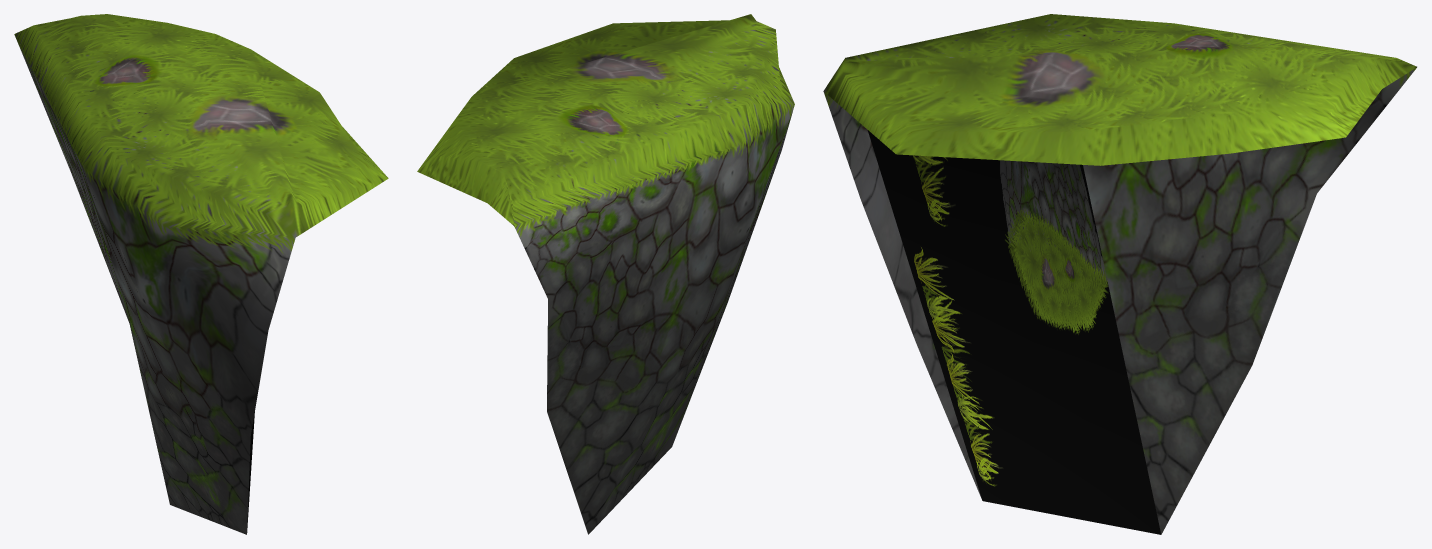
Rendered from platform klein.fbx.
3 views of the same model, side by side, from view 1: azimuth 30°, elevation 25°; view 2: azimuth 150°, elevation 25°; view 3: azimuth 270°, elevation 25° (orthographic). The views are drawn at different scales.
Visible parts, largest first — view 1: Plane_3; view 2: Plane_3; view 3: Plane_3.
Boxes of the visible parts, left/top/right/bottom form: Plane_3: left=14, top=14, right=388, bottom=534; Plane_3: left=417, top=14, right=794, bottom=534; Plane_3: left=823, top=14, right=1416, bottom=534.
Size of the model in its own units: 73.14 by 124 by 138.
Materials: 1 (1 with a texture image).
